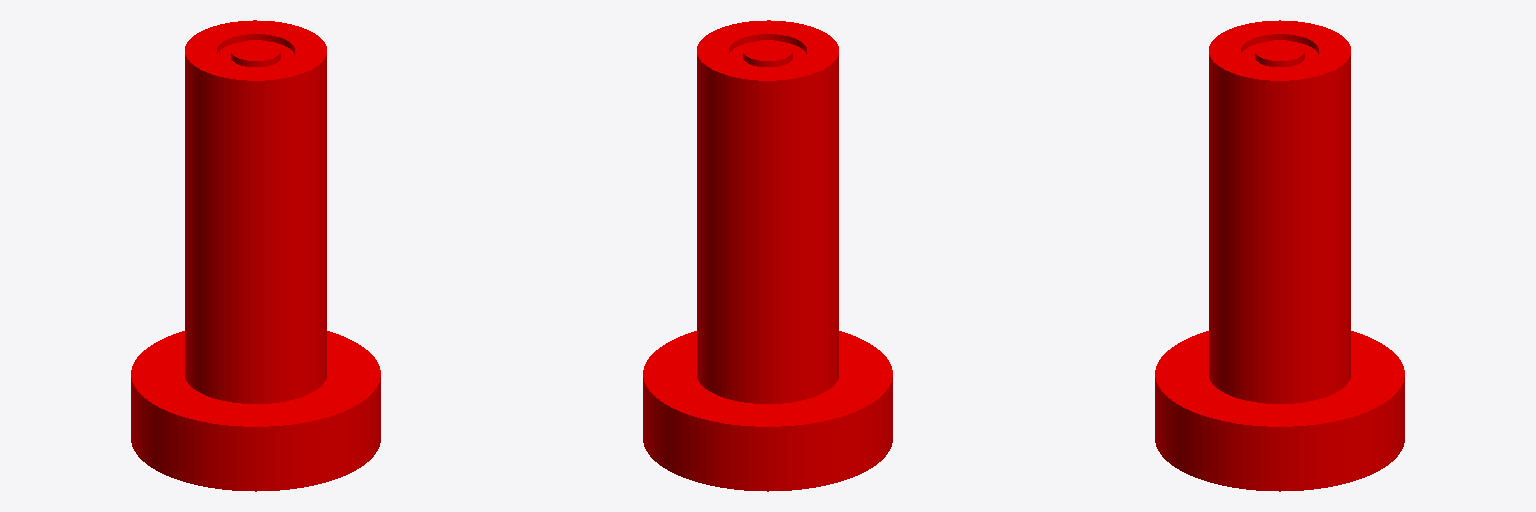
URDF robot description (o_marker):
<?xml version="1.0" ?>
<robot name="o_marker">
  <link name="o_marker">
    <inertial>
      <!-- STL 기준 질량중심 (단위: m) -->
      <origin xyz="0.0 0.0 0.0192291" rpy="0 0 0"/>
      <!-- 작은 O 말: 약 15 g -->
      <mass value="0.015"/>
      <!-- STL 형상 기반 관성 모멘트 (kg·m^2), COM 기준 -->
      <inertia
        ixx="5.57039e-06"
        iyy="5.57039e-06"
        izz="1.40162e-06"
        ixy="0.0"
        iyz="0.0"
        ixz="0.0"/>
    </inertial>

    <visual>
      <origin xyz="0 0 0" rpy="0 0 0"/>
      <geometry>
        <mesh filename="package://kat_description/meshes/board/o_marker.stl"/>
      </geometry>
      <material name="silver">
        <color rgba="1 0 0 1"/>
      </material>
    </visual>

    <collision>
      <origin xyz="0 0 0" rpy="0 0 0"/>
      <geometry>
        <mesh filename="package://kat_description/meshes/board/o_marker.stl"/>
      </geometry>
    </collision>
  </link>

  <gazebo>
    <plugin name="control" filename="libgazebo_ros_control.so"/>
  </gazebo>
</robot>

--- Facts derived from the render (not from the file) ---
The picture shows the robot from 3 angles, left to right: view 1: azimuth 30°, elevation 25°; view 2: azimuth 150°, elevation 25°; view 3: azimuth 270°, elevation 25°; orthographic projection.
Robot: o_marker — 1 links, 0 joints (none); root link o_marker; default pose: all joints at 0.
Visible links, largest first — view 1: o_marker; view 2: o_marker; view 3: o_marker.
Boxes of the visible links, x1,y1,x2,y2 form: o_marker: [131, 20, 380, 491]; o_marker: [643, 20, 892, 491]; o_marker: [1155, 20, 1404, 491].
Size in the robot's own frame: 35 by 35 by 60 metres.
1 mesh visuals loaded from 1 distinct referenced files (1 binary STL).
